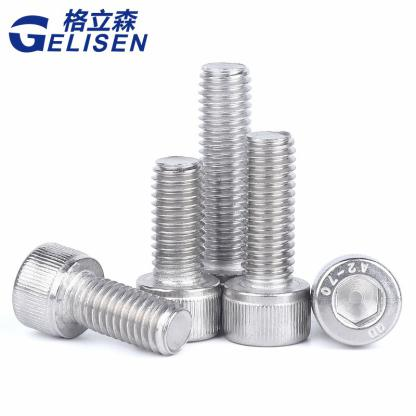FOD: (11, 239, 193, 356), (188, 58, 262, 340), (220, 128, 314, 348), (132, 153, 224, 347), (310, 251, 402, 349)
